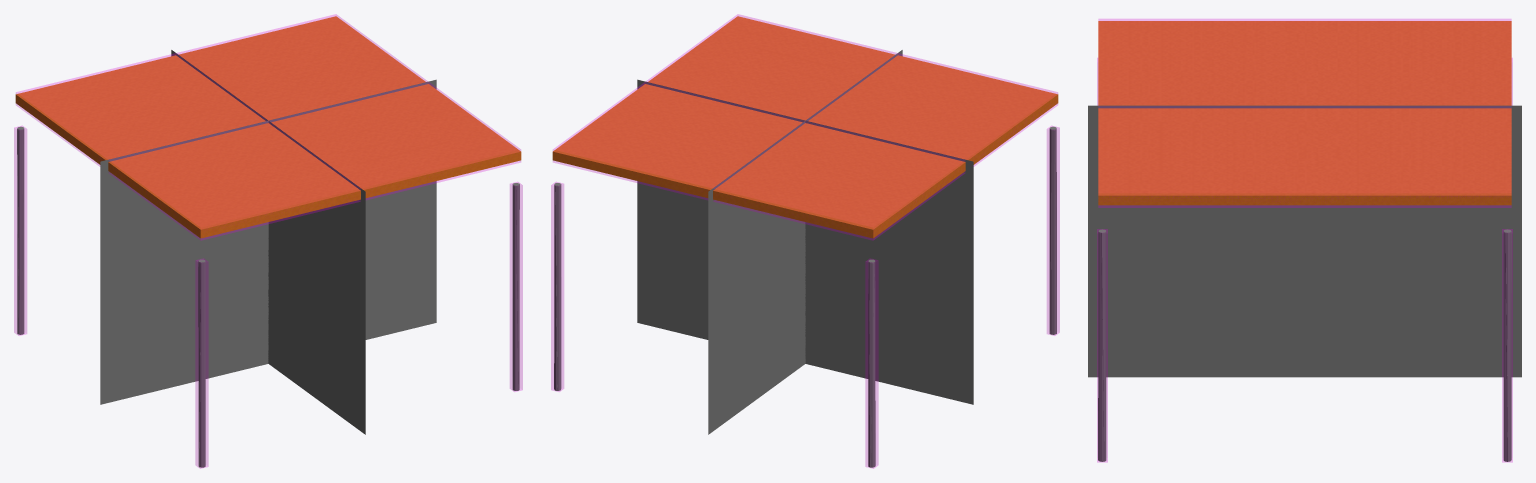
Rendered from tent_orange_3x3.dae.
3 renders of one model, left to right at view 1: azimuth 30°, elevation 25°; view 2: azimuth 150°, elevation 25°; view 3: azimuth 270°, elevation 25°, orthographic. The views are drawn at different scales.
Parts seen in each view (by area): view 1: tent_orange_3x3_a800, tent_orange_3x3_a50, tent_orange_3x3_a200, Colmesh_roof-1, Colmesh_pole0-1, Colmesh_pole1-1, Colmesh_pole3-1; view 2: tent_orange_3x3_a800, tent_orange_3x3_a50, Colmesh_roof-1, tent_orange_3x3_a200, Colmesh_pole3-1, Colmesh_pole2-1, Colmesh_pole0-1; view 3: tent_orange_3x3_a50, tent_orange_3x3_a800, Colmesh_roof-1, tent_orange_3x3_a200, Colmesh_pole1-1, Colmesh_pole2-1.
Boxes of the visible parts, x1,y1,x2,y2 form: tent_orange_3x3_a800: (15, 16, 521, 467); tent_orange_3x3_a50: (100, 50, 436, 434); tent_orange_3x3_a200: (15, 16, 520, 467); Colmesh_roof-1: (16, 14, 520, 240); Colmesh_pole0-1: (195, 258, 208, 468); Colmesh_pole1-1: (510, 182, 522, 391); Colmesh_pole3-1: (14, 126, 26, 335); tent_orange_3x3_a800: (552, 16, 1058, 467); tent_orange_3x3_a50: (637, 50, 973, 434); Colmesh_roof-1: (553, 14, 1057, 240); tent_orange_3x3_a200: (553, 16, 1057, 467); Colmesh_pole3-1: (865, 258, 878, 468); Colmesh_pole2-1: (551, 182, 563, 391); Colmesh_pole0-1: (1047, 126, 1059, 335); tent_orange_3x3_a50: (1088, 105, 1521, 377); tent_orange_3x3_a800: (1098, 21, 1511, 461); Colmesh_roof-1: (1098, 19, 1511, 207); tent_orange_3x3_a200: (1098, 21, 1511, 461); Colmesh_pole1-1: (1097, 229, 1107, 462); Colmesh_pole2-1: (1502, 229, 1512, 462).
Size of the model in its own units: 3.21 by 3.21 by 2.22.
3 materials, 1 textured.
